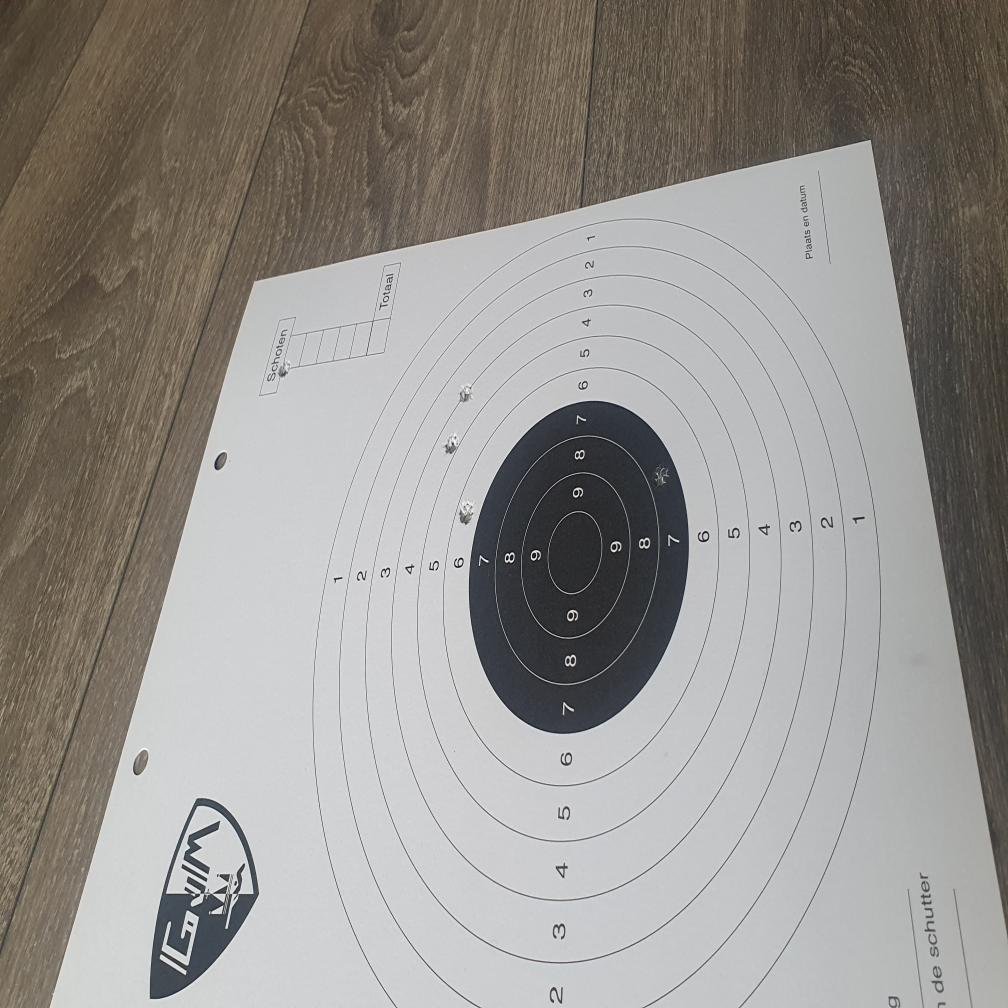0: (278, 360, 290, 379)
4: (442, 432, 459, 455), (458, 382, 473, 404)
6: (458, 497, 475, 528)
7: (652, 459, 670, 490)
Target: (315, 216, 884, 1008)
black_contour: (469, 401, 689, 734)
